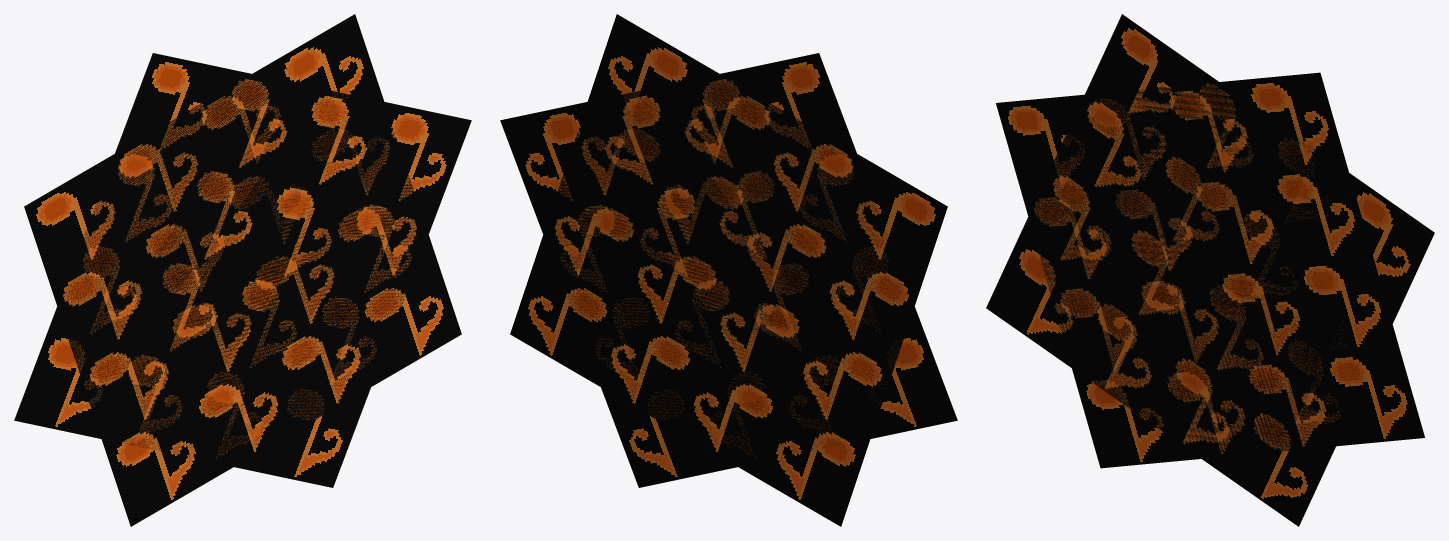
The picture shows the model from 3 angles, left to right: view 1: azimuth 30°, elevation 25°; view 2: azimuth 150°, elevation 25°; view 3: azimuth 330°, elevation 25°; orthographic projection.
Visible parts, largest first — view 1: ef_041; view 2: ef_041; view 3: ef_041.
Boxes of the visible parts, x1,y1,x2,y2 form: ef_041: [14, 14, 471, 526]; ef_041: [500, 14, 957, 526]; ef_041: [986, 14, 1434, 526].
Bounding box in the file's own units: 1.32 × 1.32 × 0.
Materials: 1 (1 with a texture image).
